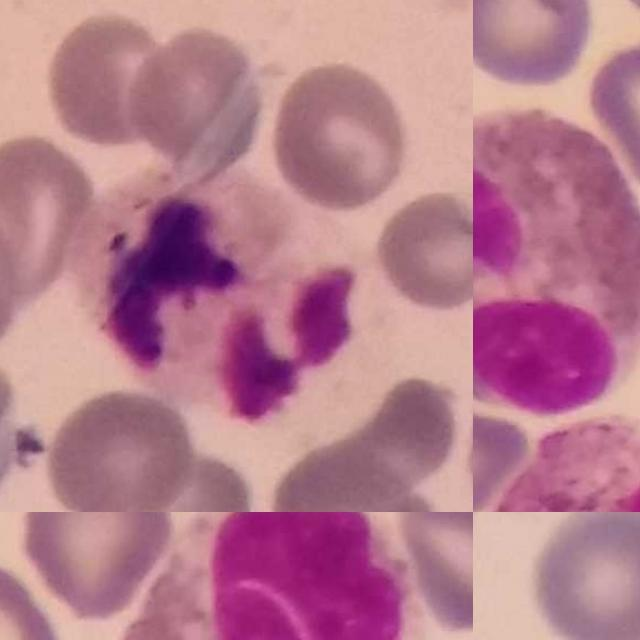Eosinophil: (473, 108, 640, 413), (118, 512, 429, 640), (473, 415, 640, 512)
Neutrophil: (88, 170, 371, 418)
